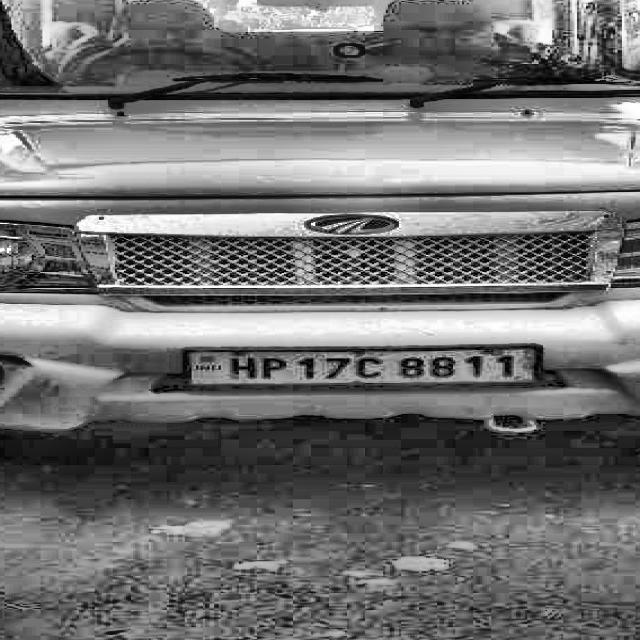light_vehicle: (0, 0, 640, 433)
